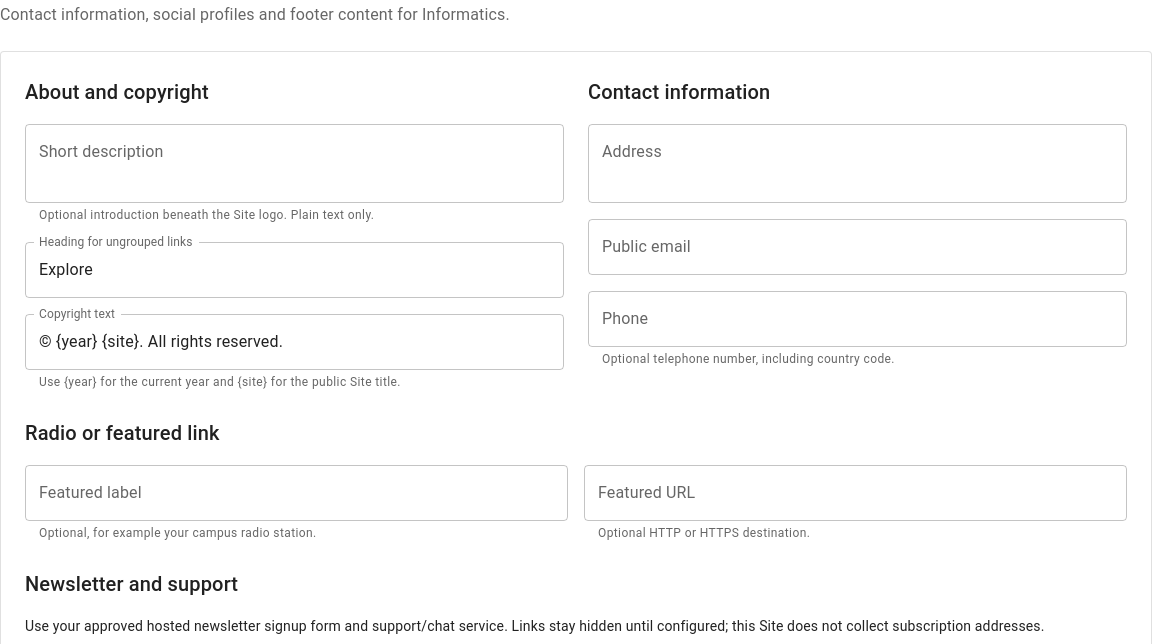
it: keeps publish disabled while edits are unsaved and restores the previous publication into the draft
In the text box labelled "Short description": (294,164) [39,140,550,186], type "Unsaved edit"
(page scrolled)
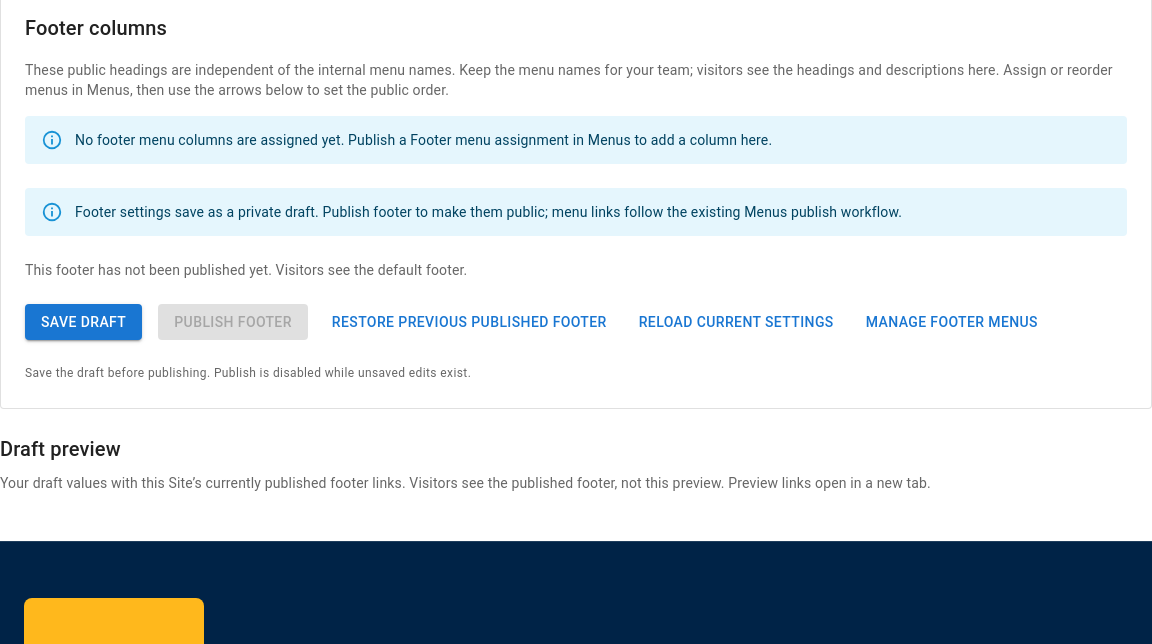
Check: the button "Publish footer" is disabled, box [158,304,308,340]
Click the button "Restore previous published footer": (469,322) [324,304,615,340]
(page scrolled)
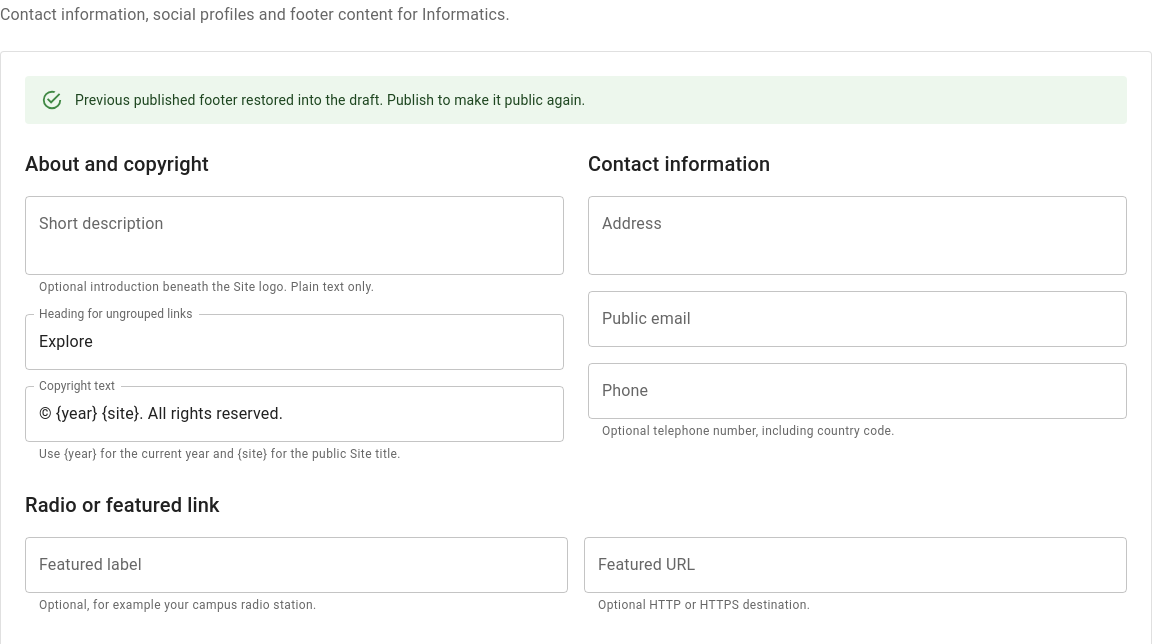
Check: the text "Previous published footer restored into the draft" is shown, box [75,92,586,108]
